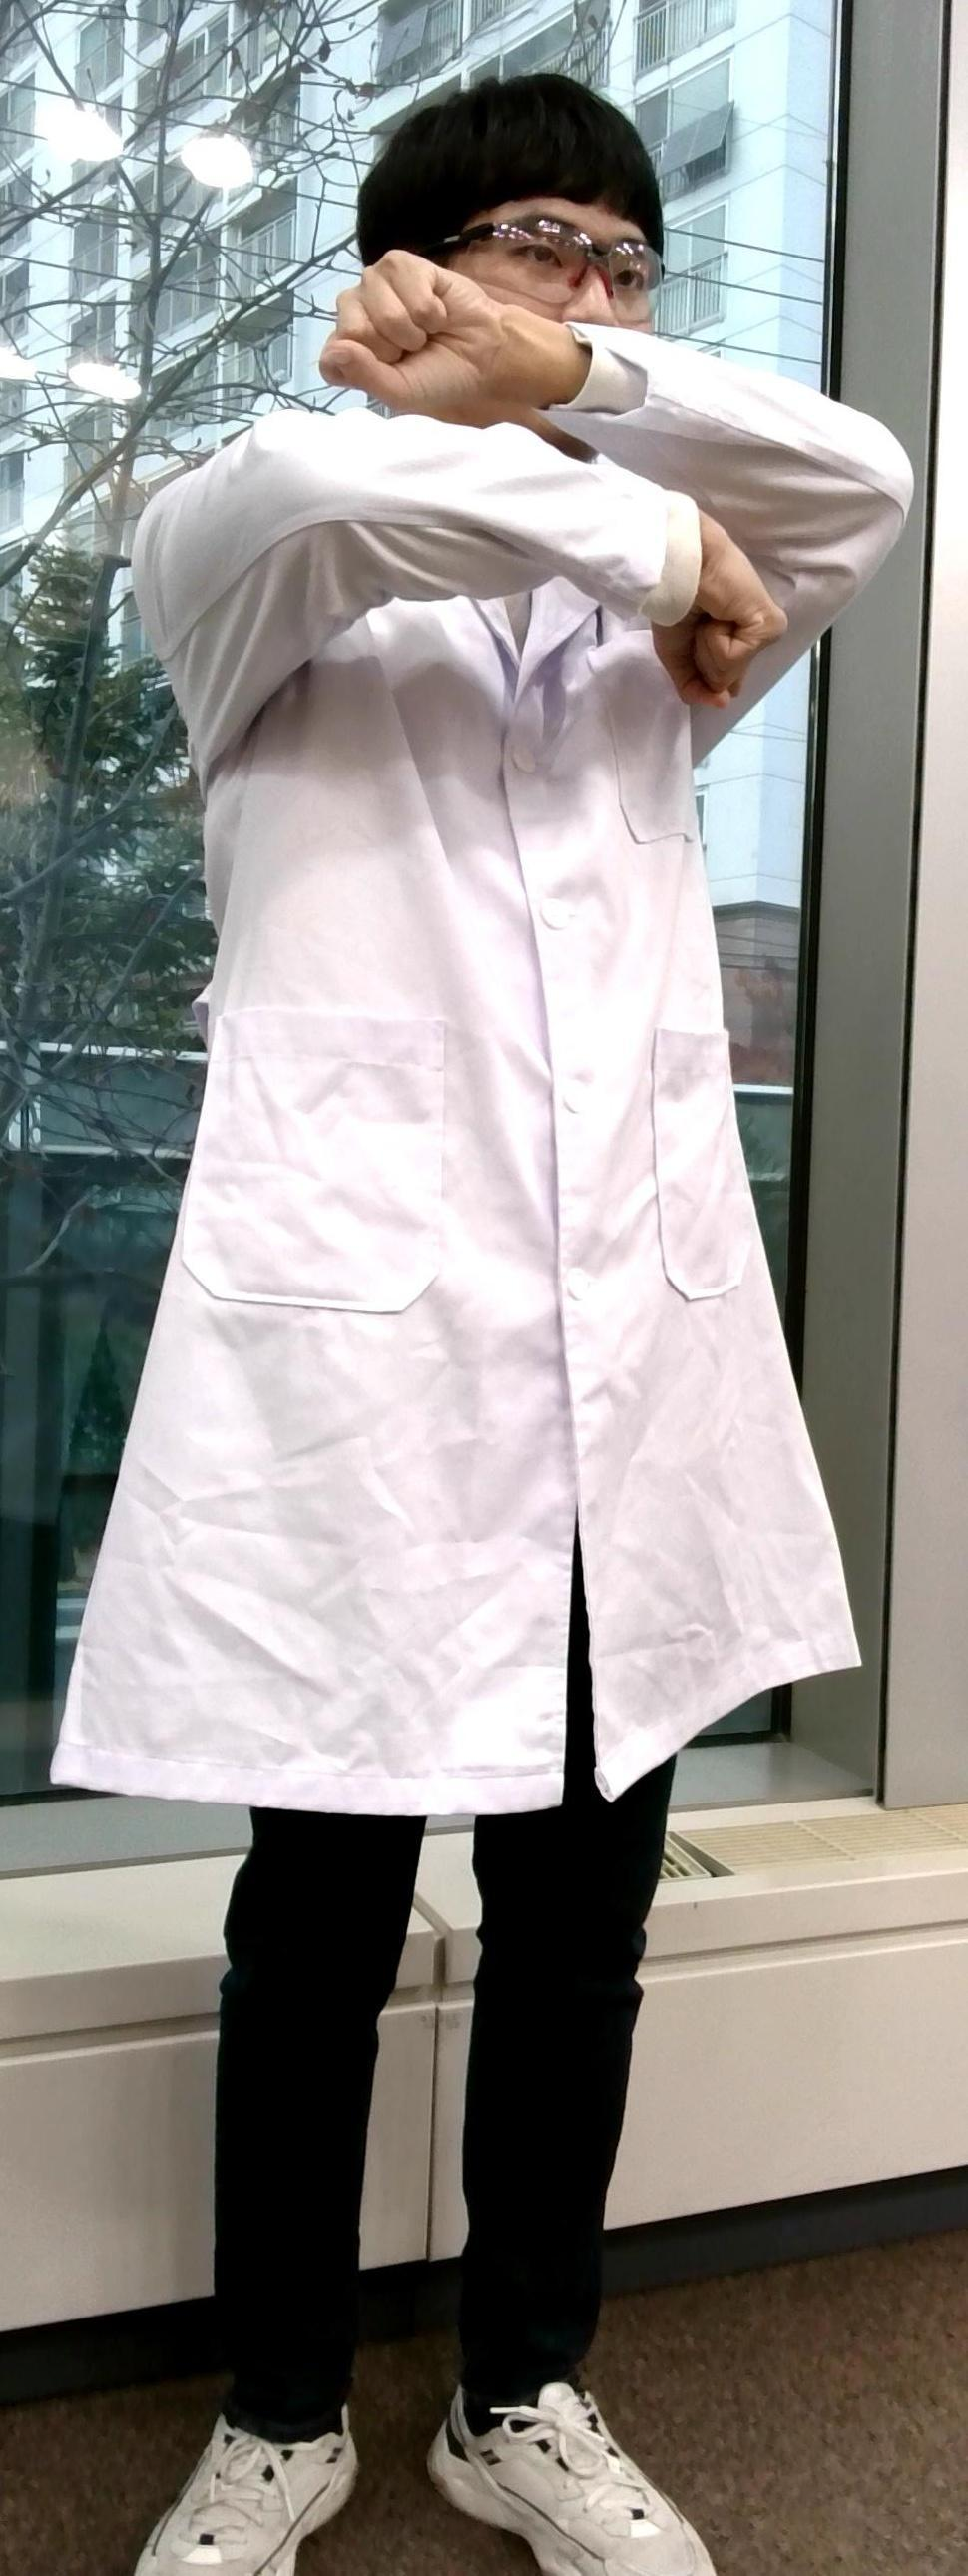lab_coat: (166, 665, 789, 1774)
